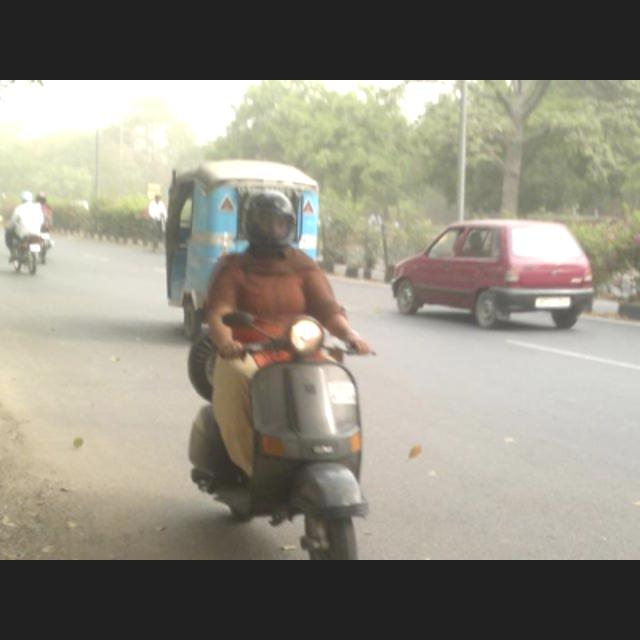With Helmet: (240, 187, 298, 253)
